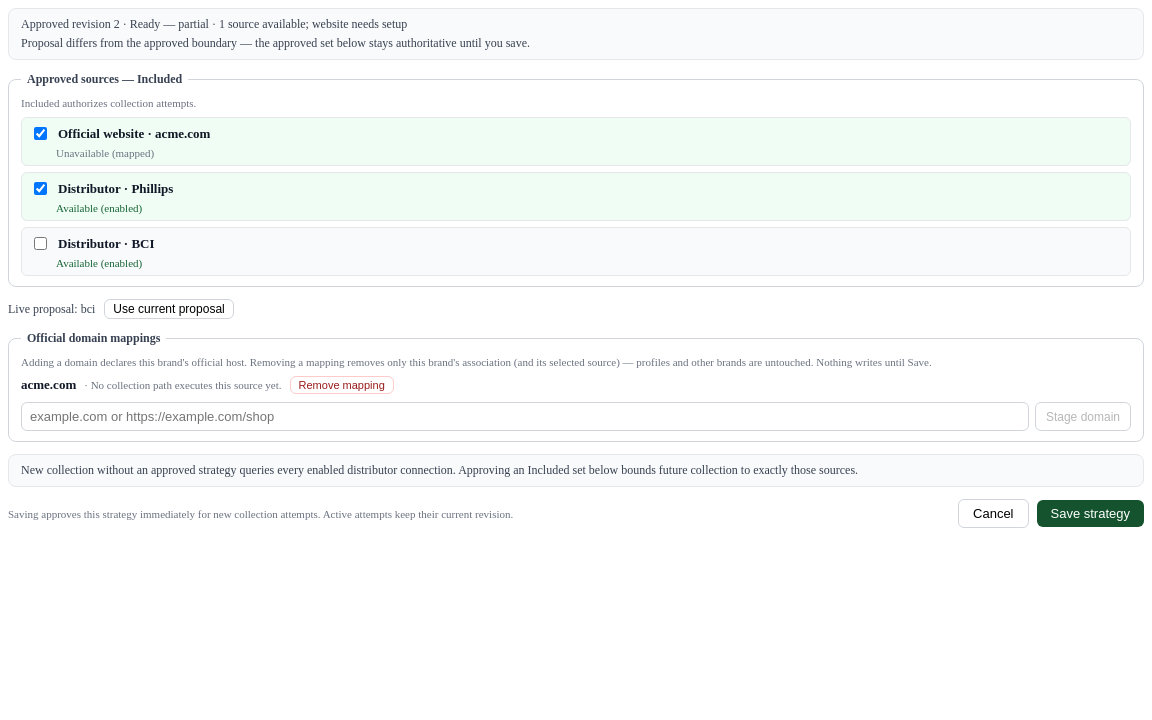
Scenario: BrandStrategyBuilder (mounted) › uncertain transport outcome disables resubmit until refresh
Click the button "Save strategy": (1090, 514) [1036, 500, 1144, 527]
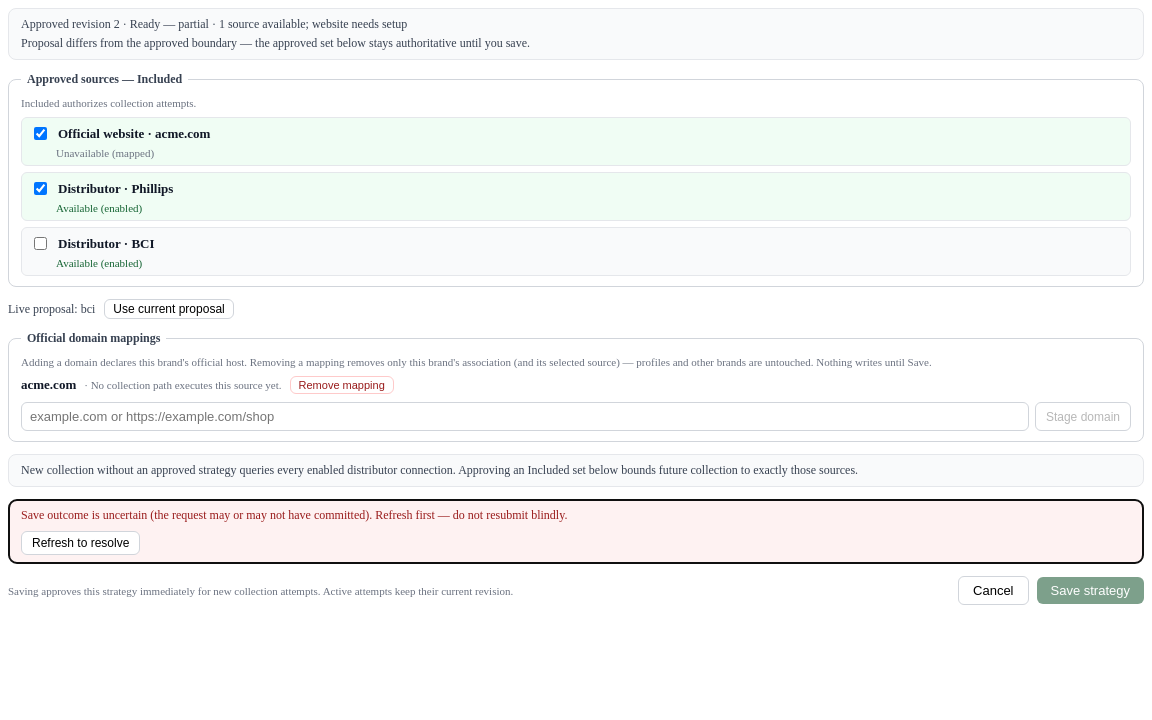
Now the text "outcome is uncertain" is shown, box [21, 508, 567, 522]
Now the button "Save strategy" is disabled, box [1036, 577, 1144, 604]
Click the button "Refresh to resolve": (81, 543) [21, 531, 140, 555]
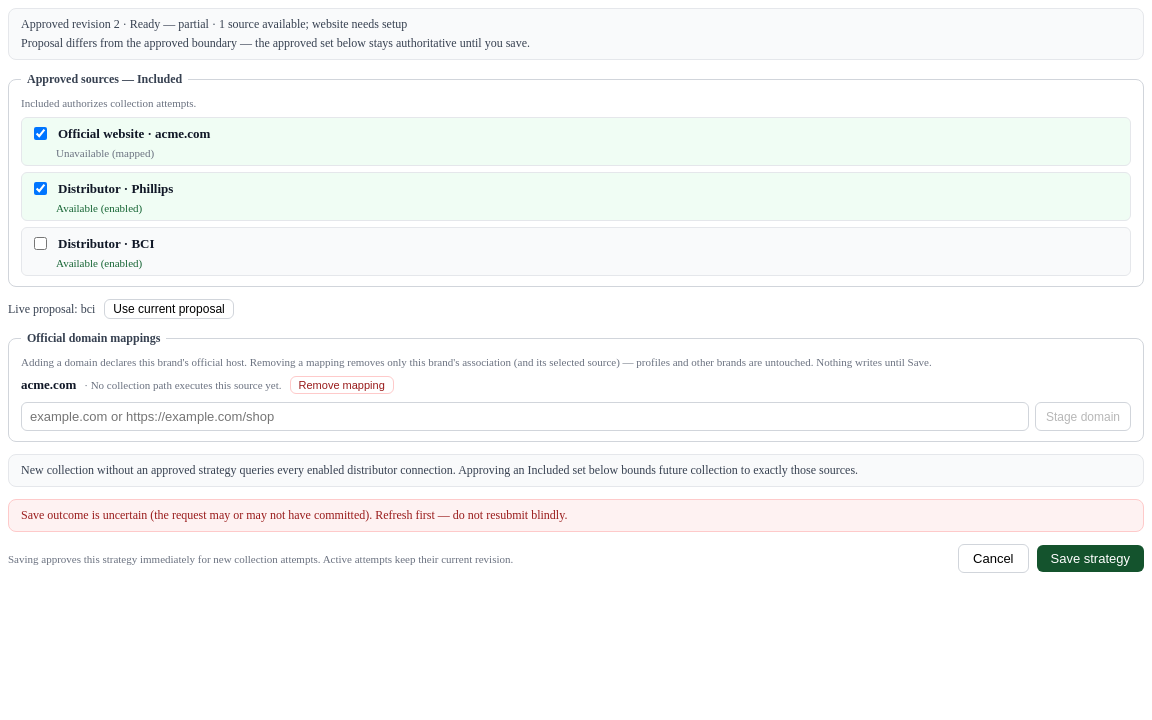
Now the button "Save strategy" is enabled, box [1036, 545, 1144, 572]
